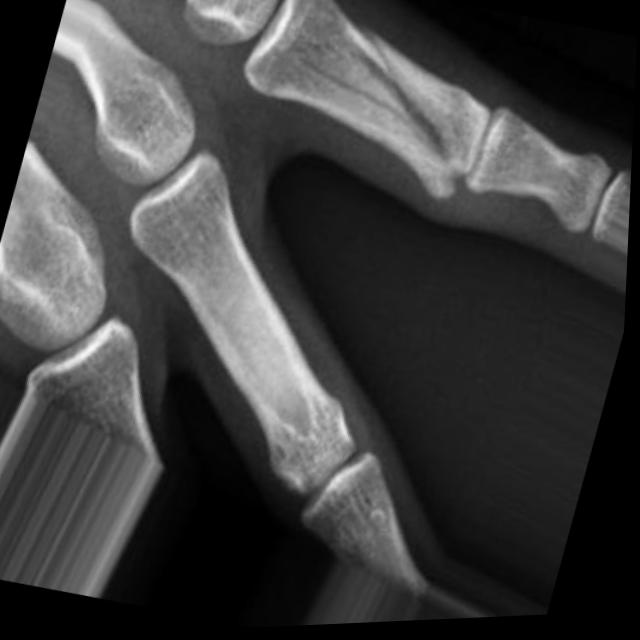fracture: (279, 0, 502, 214)
